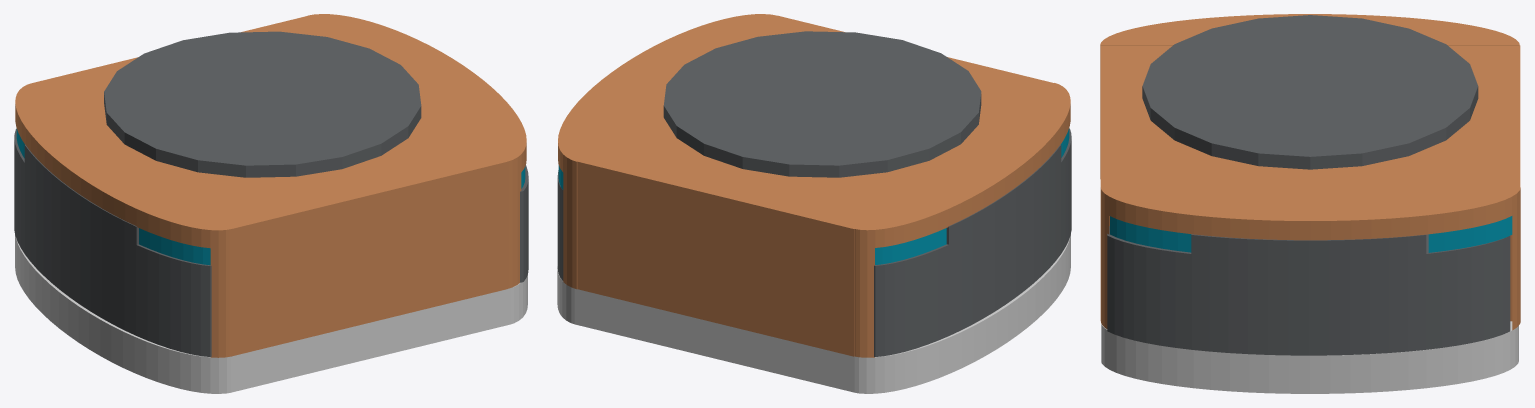
The model's file is Robot.glb.
3 views of the same model, side by side, from view 1: azimuth 30°, elevation 25°; view 2: azimuth 150°, elevation 25°; view 3: azimuth 270°, elevation 25° (orthographic). The views are drawn at different scales.
Parts seen in each view (by area): view 1: Mesh_Mesh_head_geo.001_lambert2SG.001; view 2: Mesh_Mesh_head_geo.001_lambert2SG.001; view 3: Mesh_Mesh_head_geo.001_lambert2SG.001.
Part boxes in pixels (x1=…): Mesh_Mesh_head_geo.001_lambert2SG.001: x1=14, y1=14, x2=528, y2=393; Mesh_Mesh_head_geo.001_lambert2SG.001: x1=557, y1=14, x2=1071, y2=393; Mesh_Mesh_head_geo.001_lambert2SG.001: x1=1100, y1=14, x2=1520, y2=393.
Size of the model in its own units: 5.88 by 2.82 by 5.01.
